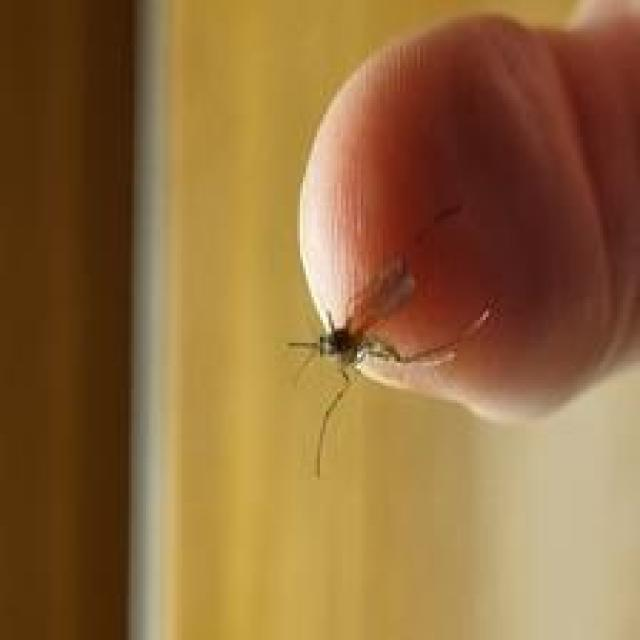Culex: (283, 252, 500, 477)
